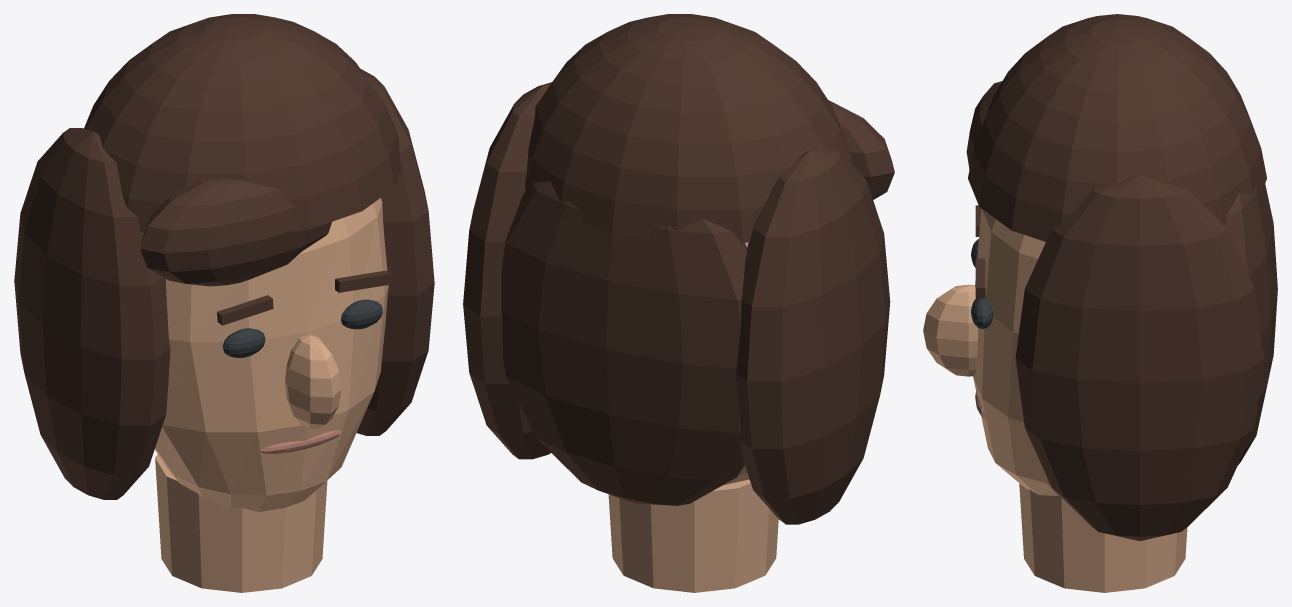
The model's file is female-head.glb.
3 renders of one model, left to right at view 1: azimuth 30°, elevation 25°; view 2: azimuth 150°, elevation 25°; view 3: azimuth 270°, elevation 25°, orthographic.
Parts seen in each view (by area): view 1: Bob side (×2), Hair cap, Face and skull, Neck connector, Swept fringe, Nose, Eye (×2), Eyebrow (×2), Mouth; view 2: Bob back, Bob side (×2), Hair cap, Neck connector, Swept fringe; view 3: Bob side, Hair cap, Face and skull, Neck connector, Bob back, Nose, Swept fringe, Eye.
Part boxes in pixels (box(x1,y1,x2,y2)): Bob side (×2): box(14, 68, 434, 499); Hair cap: box(84, 14, 401, 232); Face and skull: box(154, 198, 388, 512); Neck connector: box(155, 454, 327, 592); Swept fringe: box(140, 179, 331, 286); Nose: box(285, 334, 341, 428); Eye (×2): box(223, 299, 382, 357); Eyebrow (×2): box(217, 270, 390, 325); Mouth: box(259, 430, 342, 453); Bob back: box(501, 181, 747, 505); Bob side (×2): box(463, 82, 890, 524); Hair cap: box(524, 14, 853, 242); Neck connector: box(608, 479, 778, 592); Swept fringe: box(828, 100, 894, 199); Bob side: box(1015, 175, 1263, 541); Hair cap: box(968, 14, 1266, 241); Face and skull: box(973, 208, 1059, 495); Neck connector: box(1019, 483, 1187, 592); Bob back: box(1225, 183, 1277, 464); Nose: box(923, 284, 977, 376); Swept fringe: box(966, 81, 1002, 169); Eye: box(971, 296, 993, 328).
Size of the model in its own units: 0.396 by 0.55 by 0.334.
